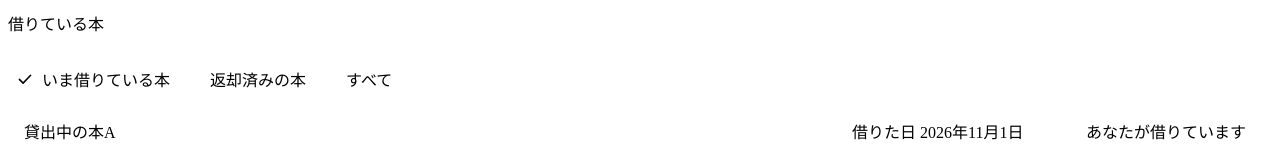
LoanListPage › LL-11: 返却済みの本がないときに「返却済みの本」を押すと「返却済みの本はまだありません。」を表示する
Expected: the text "貸出中の本A" is shown, [24,124,116,141]
Click the button "返却済みの本".
click(258, 79)  # box [194,63,322,95]
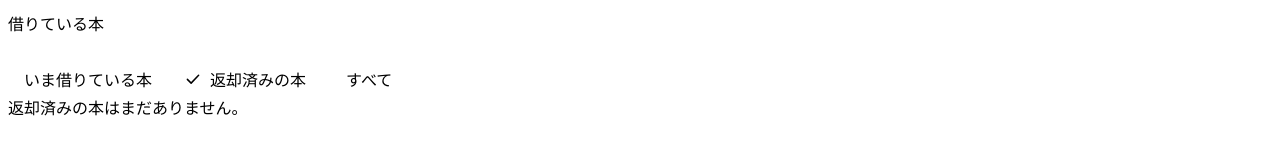
Now the text "返却済みの本はまだありません。" is shown, box [8,100,248,117]
